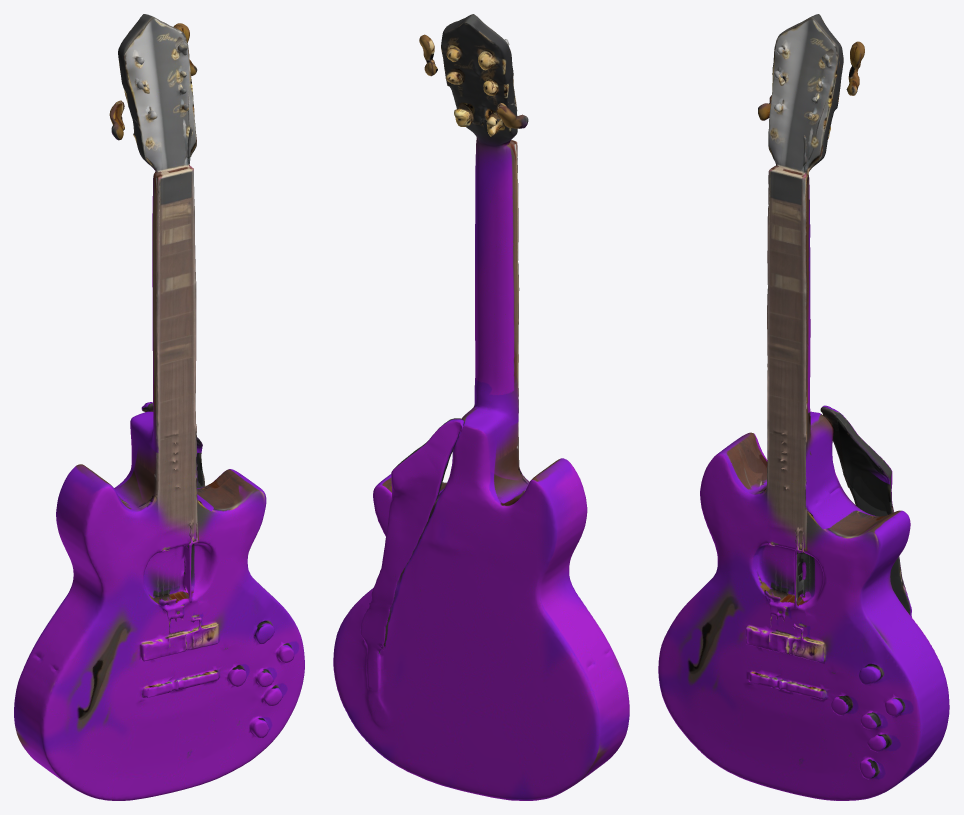
File: violeta.glb
3 renders of one model, left to right at view 1: azimuth 30°, elevation 25°; view 2: azimuth 150°, elevation 25°; view 3: azimuth 330°, elevation 25°, orthographic.
Parts seen in each view (by area): view 1: Mesh_0; view 2: Mesh_0; view 3: Mesh_0.
Part boxes in pixels (x1=…): Mesh_0: x1=14, y1=14, x2=304, y2=800; Mesh_0: x1=333, y1=14, x2=629, y2=800; Mesh_0: x1=658, y1=14, x2=949, y2=800.
Size of the model in its own units: 0.7139 by 1.97 by 0.2322.
Materials: 1 (1 with a texture image).
